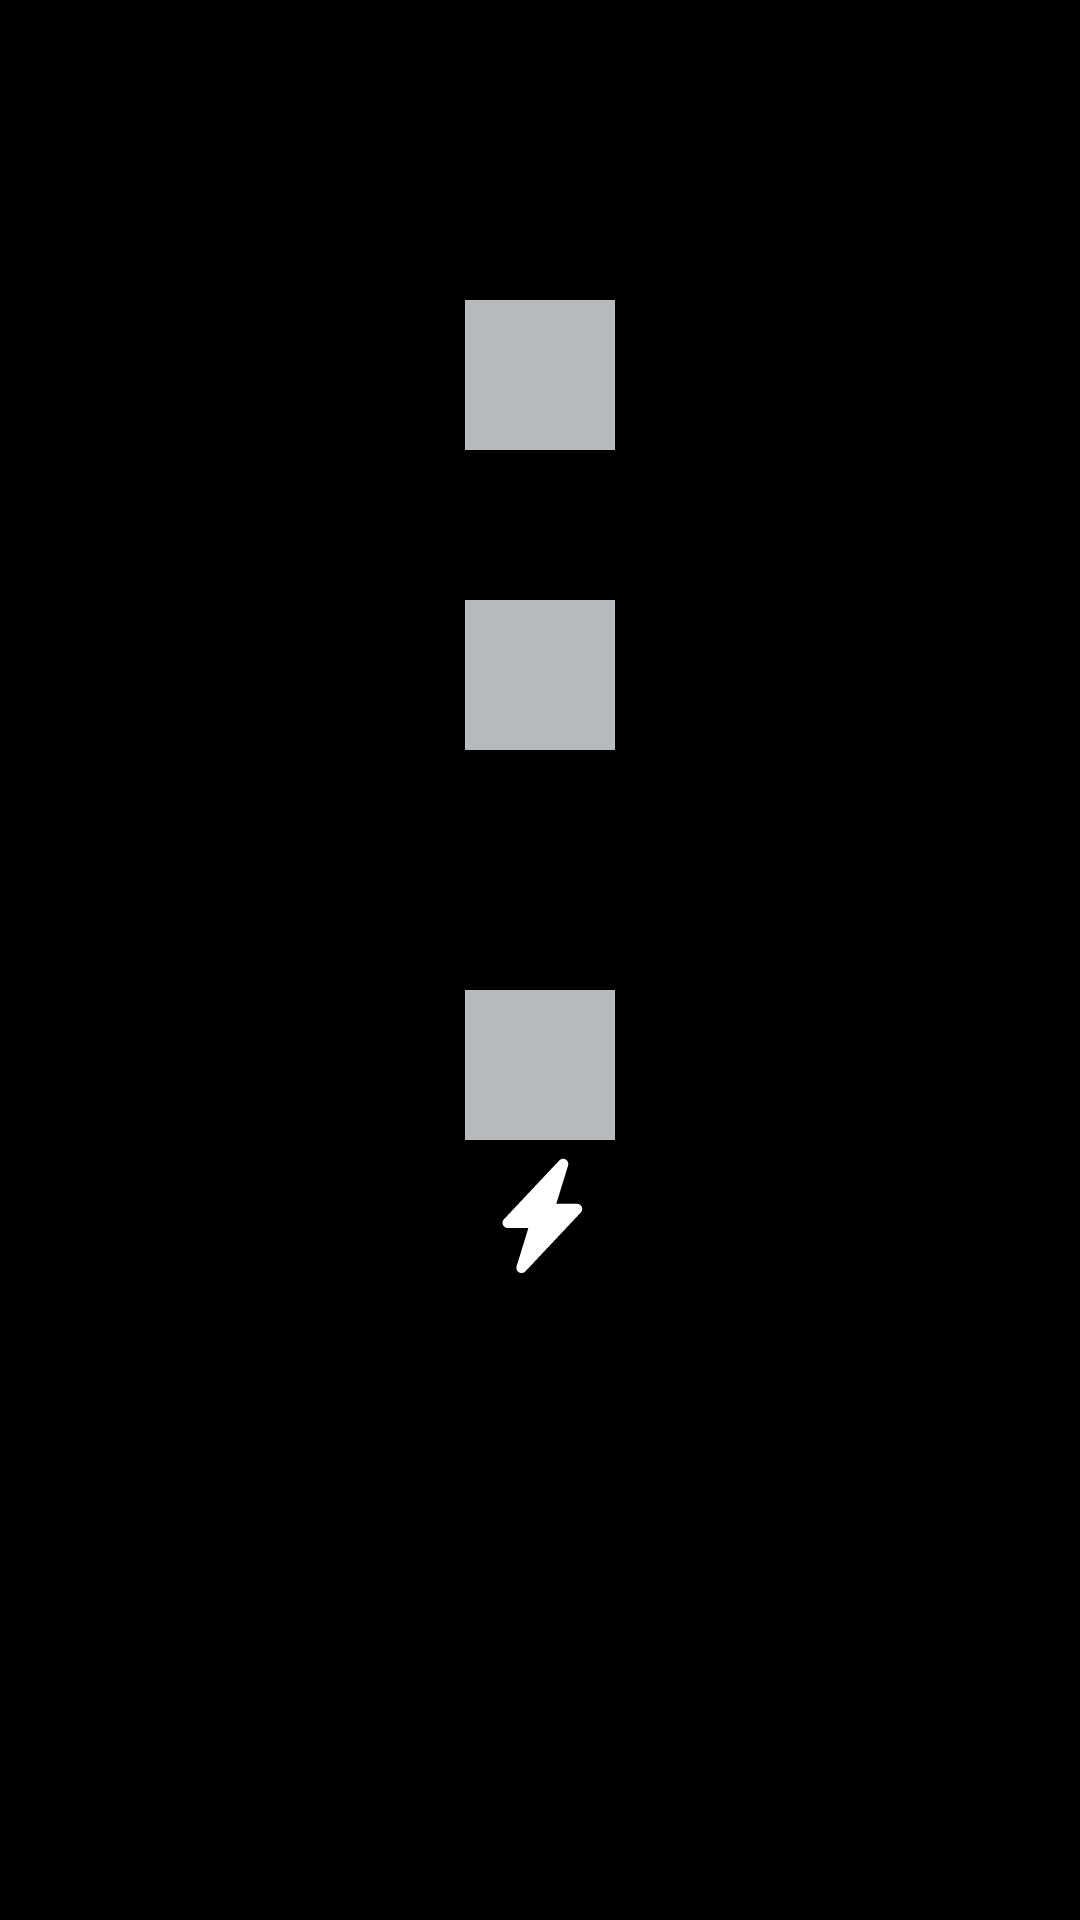

Screen size 1080px×1920px. Icon name, then its center in pixels as (x=x, y=y):
lightning: (x=542, y=1215)
